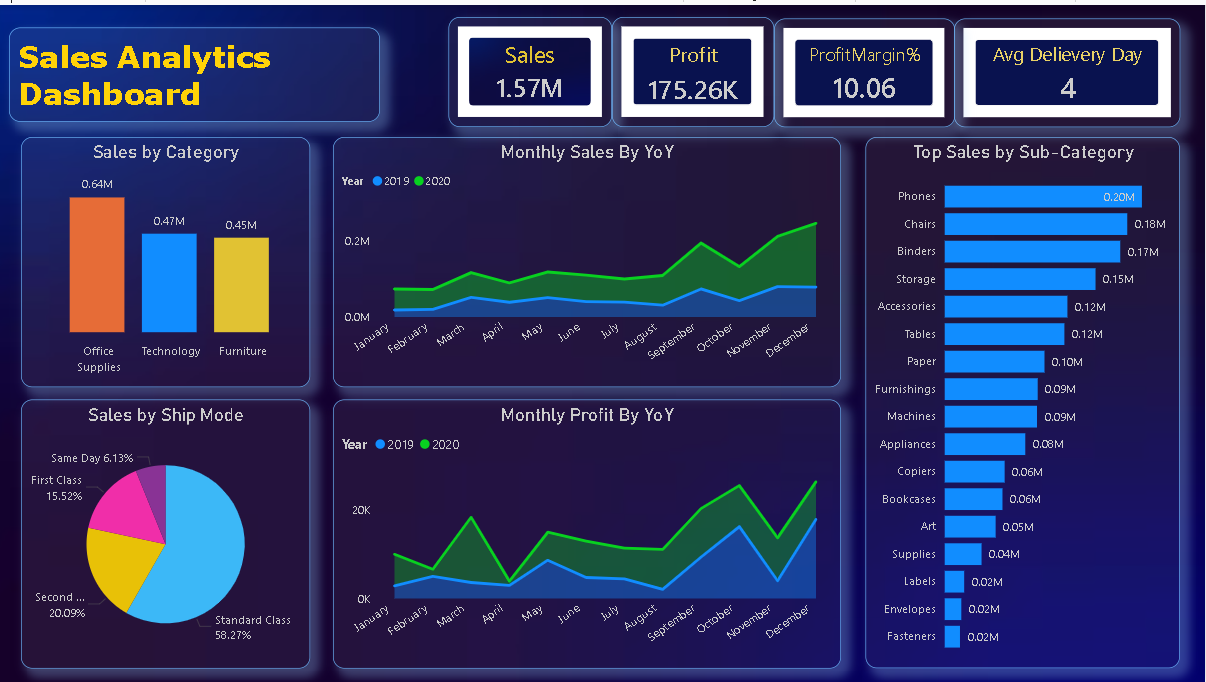

The dashboard page shown, as its layout file describes it:
{"tool":"powerbi","page":{"name":"DASHBOARD","canvas":[1280,720],"ordinal":0},"visuals":[{"type":"pieChart","title":"Sales by Ship Mode","fields":{"Category":["SuperStore_Sales_Dataset.Ship Mode"],"Y":["Sum(SuperStore_Sales_Dataset.Sales)"]},"box":[25,418.3,306.7,285],"z":0},{"type":"clusteredBarChart","title":"Top Sales by Sub-Category","fields":{"Category":["SuperStore_Sales_Dataset.Sub-Category"],"Y":["Sum(SuperStore_Sales_Dataset.Sales)"]},"box":[921.7,140,333.3,563.3],"z":1000},{"type":"clusteredColumnChart","title":"Sales by Category","fields":{"Category":["SuperStore_Sales_Dataset.Category"],"Y":["Sum(SuperStore_Sales_Dataset.Sales)"]},"box":[25,140,306.7,265],"z":2000},{"type":"stackedAreaChart","title":"Monthly Sales By YoY","fields":{"Y":["Sum(SuperStore_Sales_Dataset.Sales)"],"Category":["SuperStore_Sales_Dataset.Order Date.Variation.Date Hierarchy.Month"],"Series":["SuperStore_Sales_Dataset.Order Date.Variation.Date Hierarchy.Year"]},"box":[356.7,140,538.3,265],"z":3000},{"type":"stackedAreaChart","title":"Monthly Profit By YoY","fields":{"Category":["SuperStore_Sales_Dataset.Order Date.Variation.Date Hierarchy.Month"],"Series":["SuperStore_Sales_Dataset.Order Date.Variation.Date Hierarchy.Year"],"Y":["Sum(SuperStore_Sales_Dataset.Profit)"]},"box":[356.7,418.3,538.3,285],"z":4000},{"type":"cardVisual","fields":{"Data":["Sum(SuperStore_Sales_Dataset.Sales)"]},"box":[478.3,13.3,173.3,116.7],"z":5000},{"type":"cardVisual","fields":{"Data":["Avg(SuperStore_Sales_Dataset.Average Delievery Day)"]},"box":[1015,15,240,115],"z":6000},{"type":"cardVisual","fields":{"Data":["Sum(SuperStore_Sales_Dataset.Profit)"]},"box":[651.7,13.3,171.7,116.7],"z":7000},{"type":"cardVisual","fields":{"Data":["Avg(SuperStore_Sales_Dataset.Profit_Margin %)"]},"box":[823.3,15,191.7,115],"z":8000},{"type":"textbox","box":[13.3,23.3,393.3,100],"z":8001}]}

Visuals, with their boxes in screenshot pixels (x1, y1, x2, y2), scaled from the page's 1280x720 canvas onto the 1206x682 screenshot:
"Sales by Ship Mode" pieChart: (x1=24, y1=396, x2=313, y2=666)
"Top Sales by Sub-Category" clusteredBarChart: (x1=868, y1=133, x2=1182, y2=666)
"Sales by Category" clusteredColumnChart: (x1=24, y1=133, x2=313, y2=384)
"Monthly Sales By YoY" stackedAreaChart: (x1=336, y1=133, x2=843, y2=384)
"Monthly Profit By YoY" stackedAreaChart: (x1=336, y1=396, x2=843, y2=666)
cardVisual - Sum(SuperStore_Sales_Dataset.Sales): (x1=451, y1=13, x2=614, y2=123)
cardVisual - Avg(SuperStore_Sales_Dataset.Average Delievery Day): (x1=956, y1=14, x2=1182, y2=123)
cardVisual - Sum(SuperStore_Sales_Dataset.Profit): (x1=614, y1=13, x2=776, y2=123)
cardVisual - Avg(SuperStore_Sales_Dataset.Profit_Margin %): (x1=776, y1=14, x2=956, y2=123)
textbox: (x1=13, y1=22, x2=383, y2=117)
